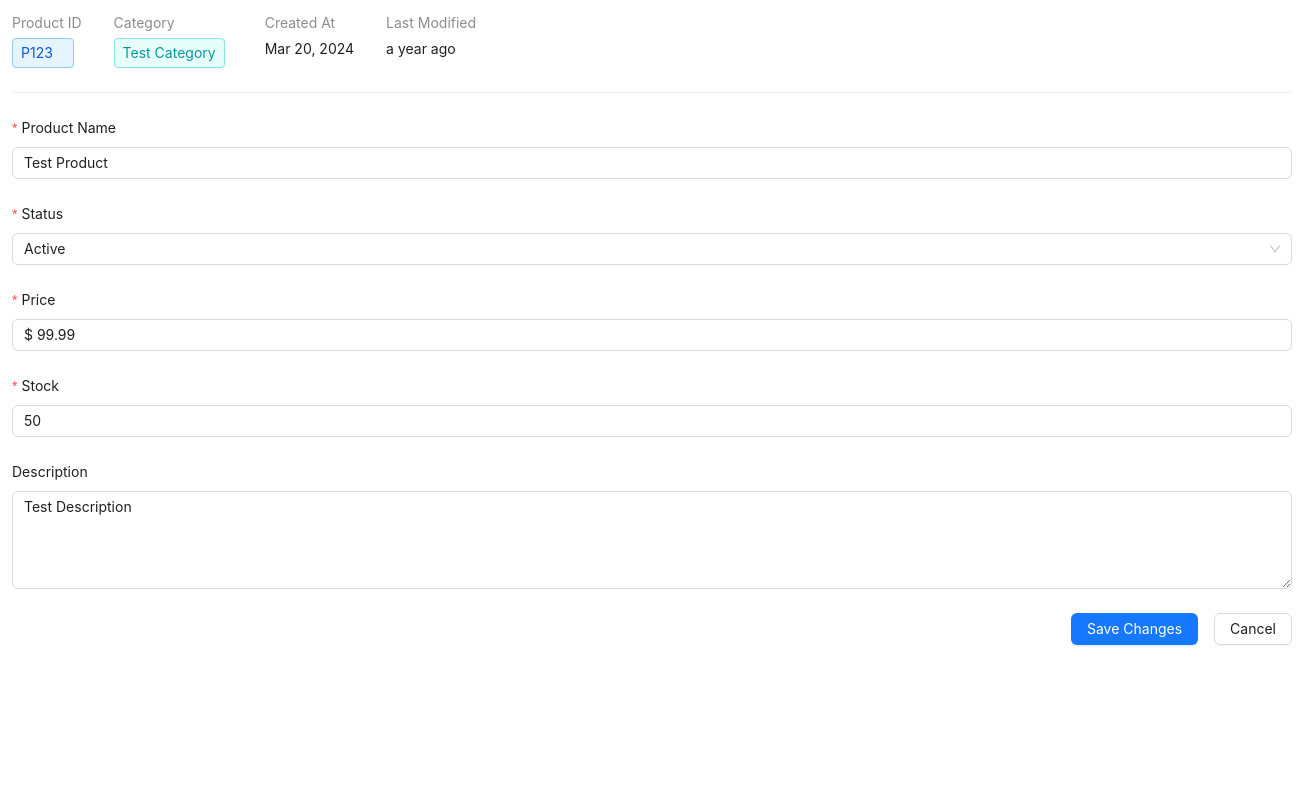
it: ProductEditView › validates required fields
The width and height of the screenshot is (1304, 812).
Clear the field labelled "Product Name" at (652, 163), box [12,147,1292,179]
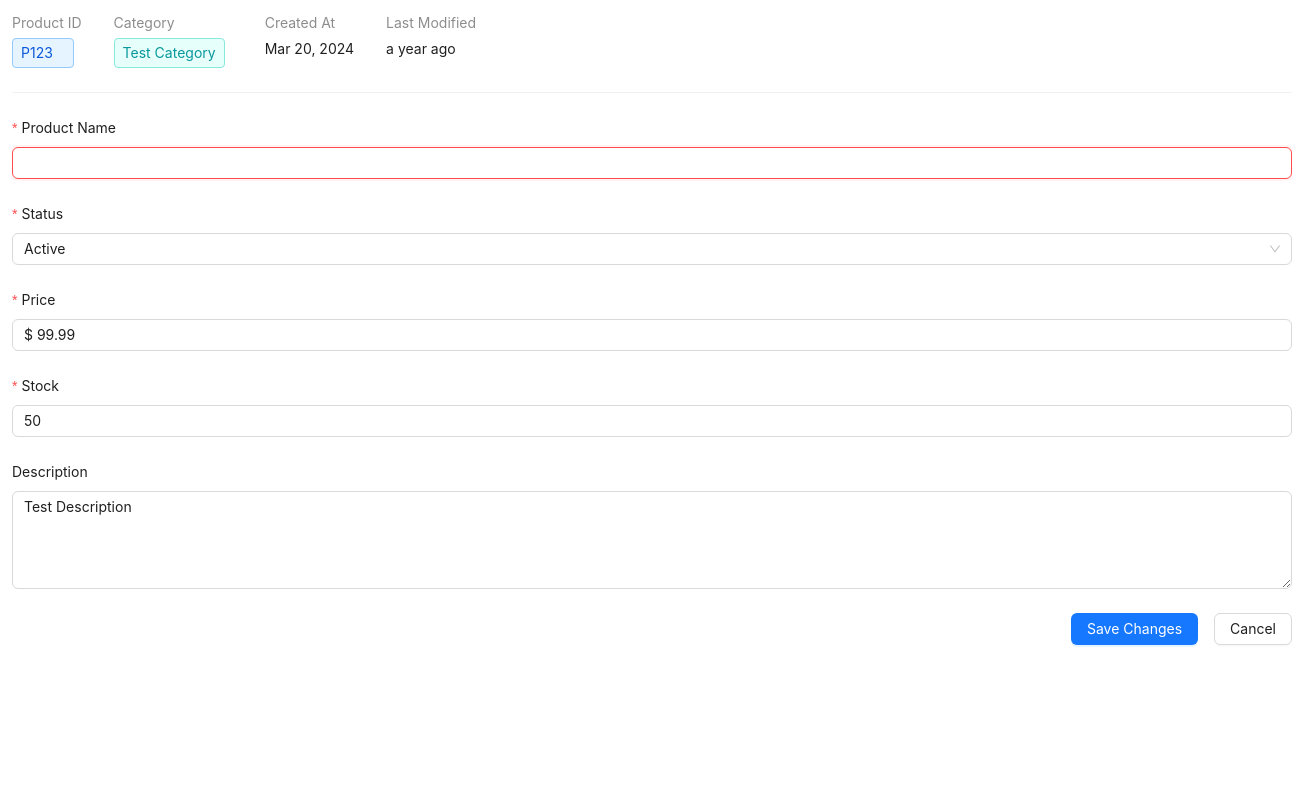
Click the button "Save Changes" at (1135, 629), box [1071,613,1198,645]
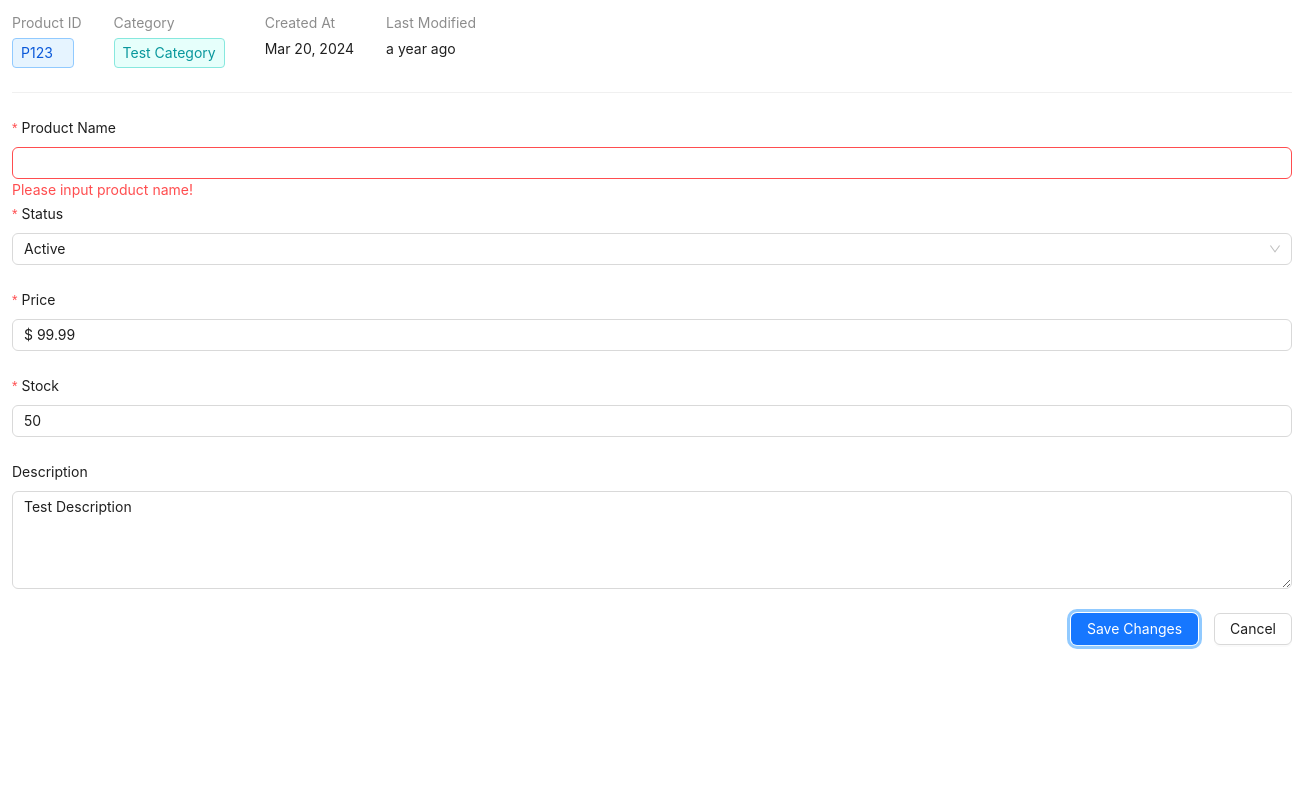
Expected: the text "Please input product name!" is shown, [12,181,193,198]
